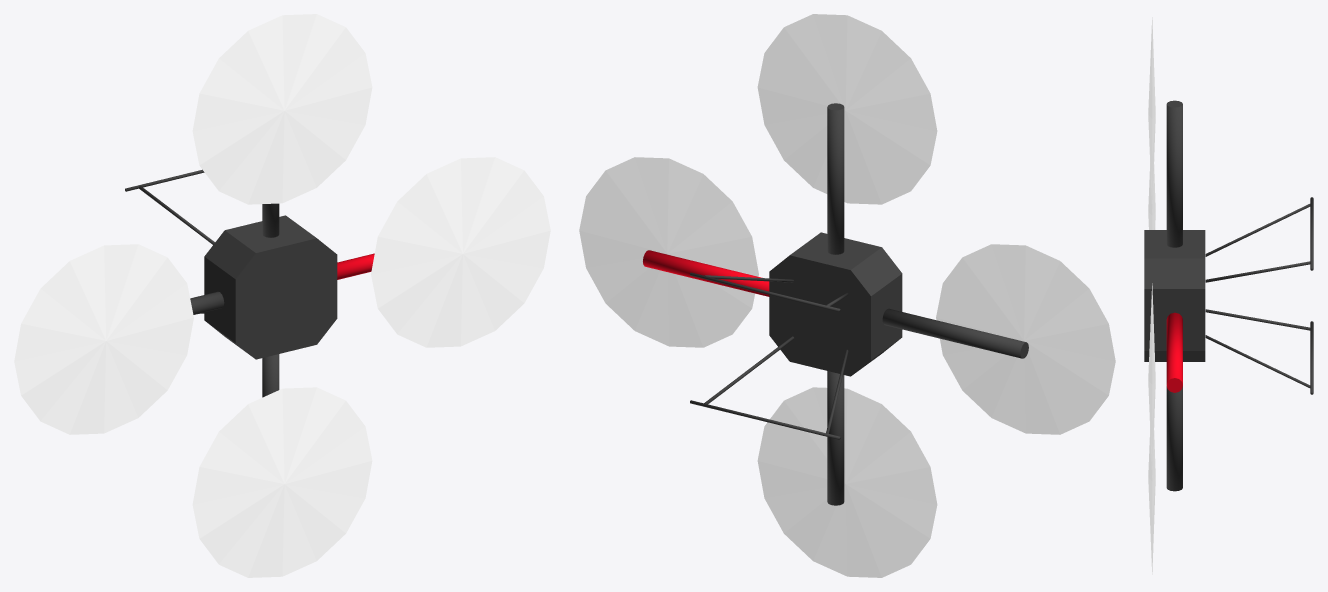
Rendered from quadrotor_base.glb.
3 views of the same model, side by side, from view 1: azimuth 30°, elevation 25°; view 2: azimuth 150°, elevation 25°; view 3: azimuth 270°, elevation 25° (orthographic). The views are drawn at different scales.
Visible parts, largest first — view 1: Cube_002-mesh_3, Cube_002-mesh_1, Cube_002-mesh_2; view 2: Cube_002-mesh_3, Cube_002-mesh_1, Cube_002-mesh_2, Cube_002-mesh; view 3: Cube_002-mesh_2, Cube_002-mesh_3, Cube_002-mesh_1, Cube_002-mesh.
Part boxes in pixels (<box>): Cube_002-mesh_3: <box>14,14,550,577</box>; Cube_002-mesh_1: <box>14,14,550,577</box>; Cube_002-mesh_2: <box>125,169,337,397</box>; Cube_002-mesh_3: <box>579,14,1115,577</box>; Cube_002-mesh_1: <box>579,14,1115,577</box>; Cube_002-mesh_2: <box>690,103,1028,505</box>; Cube_002-mesh: <box>643,250,769,296</box>; Cube_002-mesh_2: <box>1144,100,1313,491</box>; Cube_002-mesh_3: <box>1148,17,1155,568</box>; Cube_002-mesh_1: <box>1148,26,1155,574</box>; Cube_002-mesh: <box>1166,312,1182,392</box>.
Size of the model in its own units: 0.7911 by 0.7911 by 0.2225.
